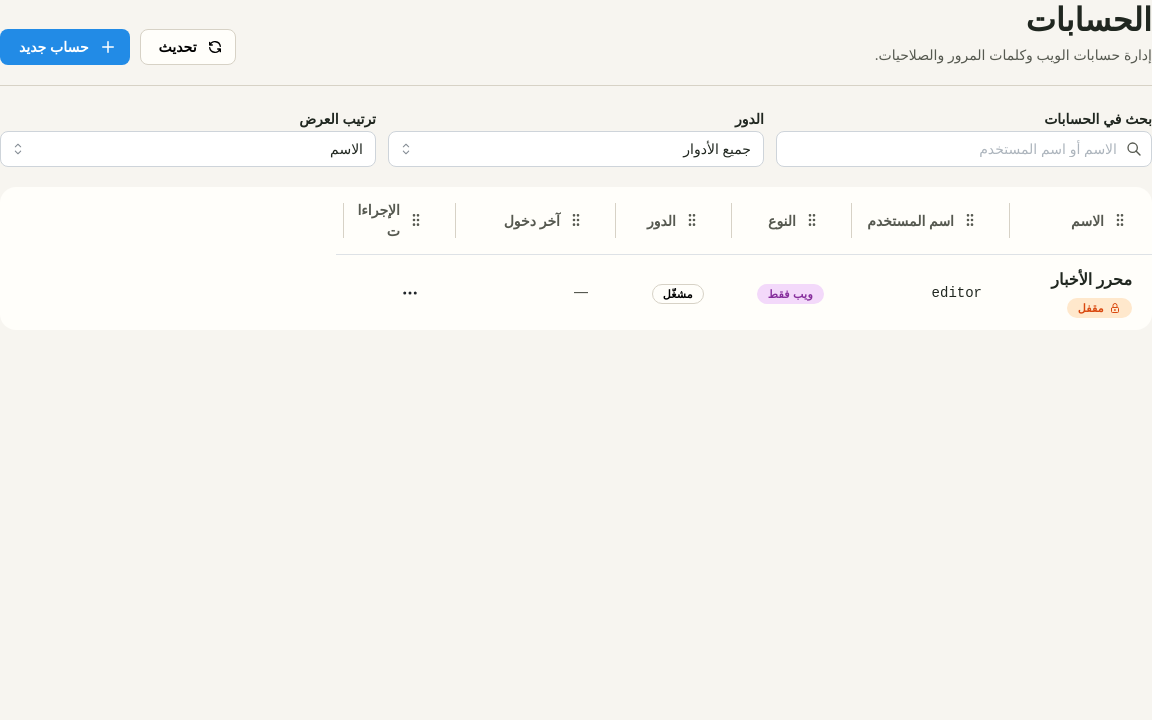
Test: refreshes a locked account after its password is reset
Expected: the text "محرر الأخبار" is shown, [1051,267,1132,292]
Expected: the text "مقفل" is shown, [1078,299,1104,317]
Click the button named "إجراءات محرر الأخبار" at point(410, 292), box [392,274,428,310]
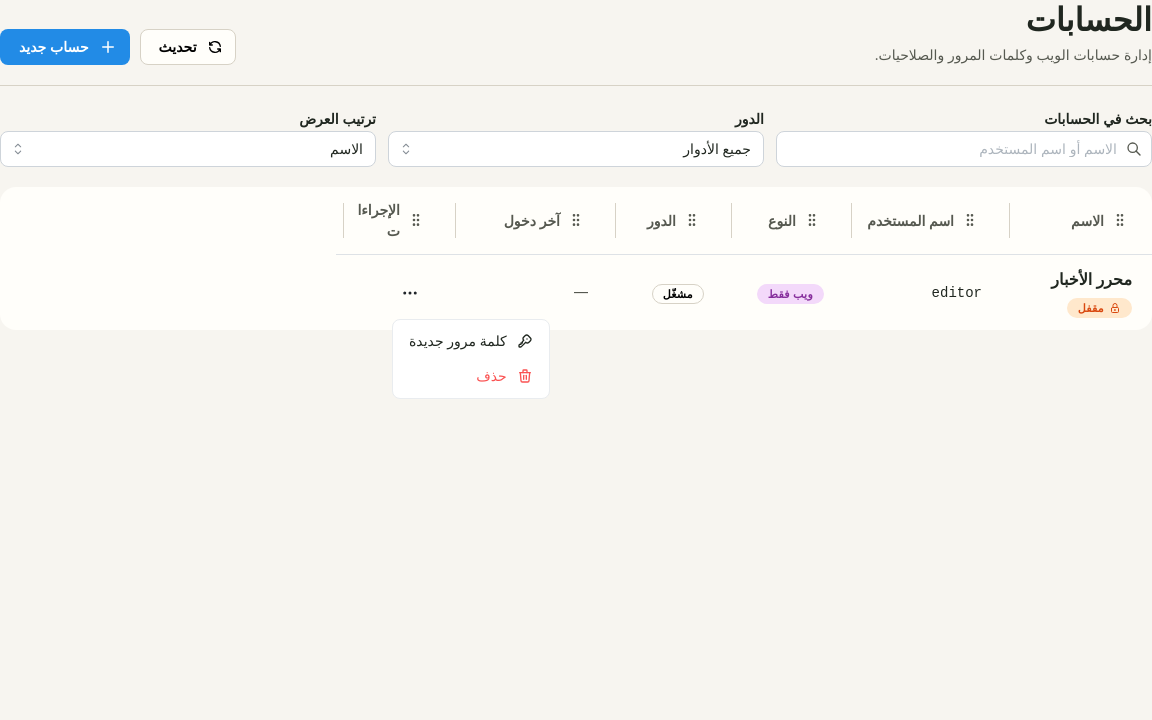
Click the menu item "كلمة مرور جديدة" at point(471, 341), box [397,324,545,358]
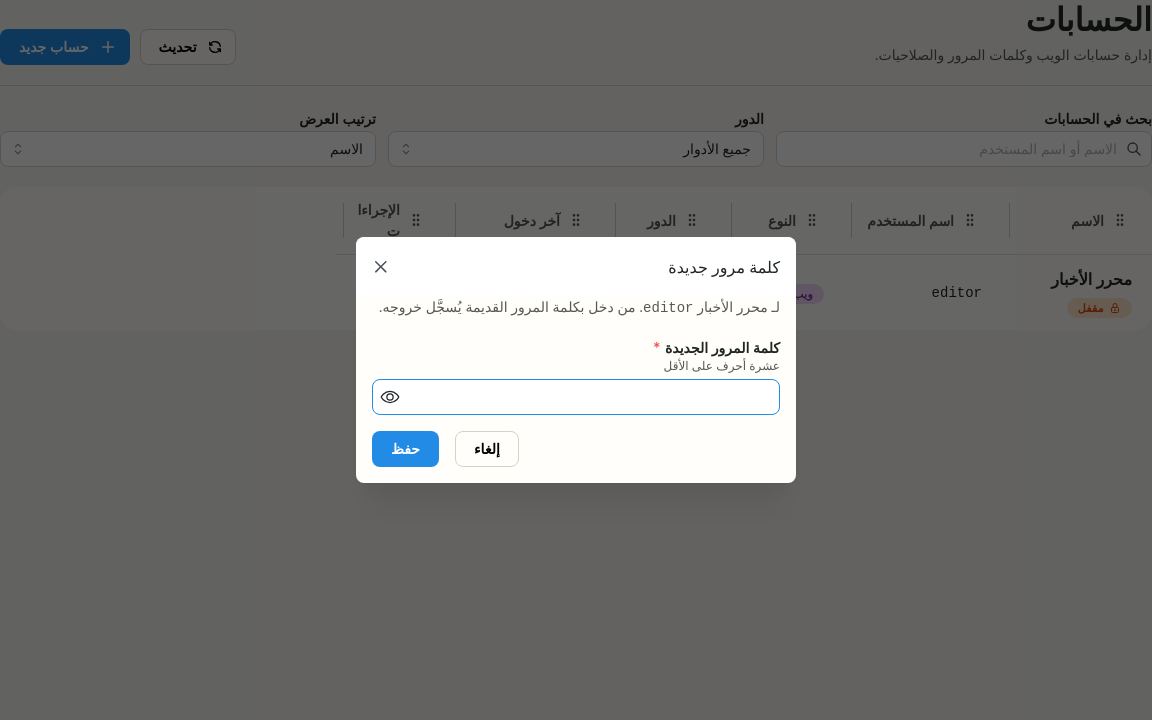
Type "long-password" into the password field labelled "كلمة المرور الجديدة *" at point(576, 397), box [373,380,779,414]
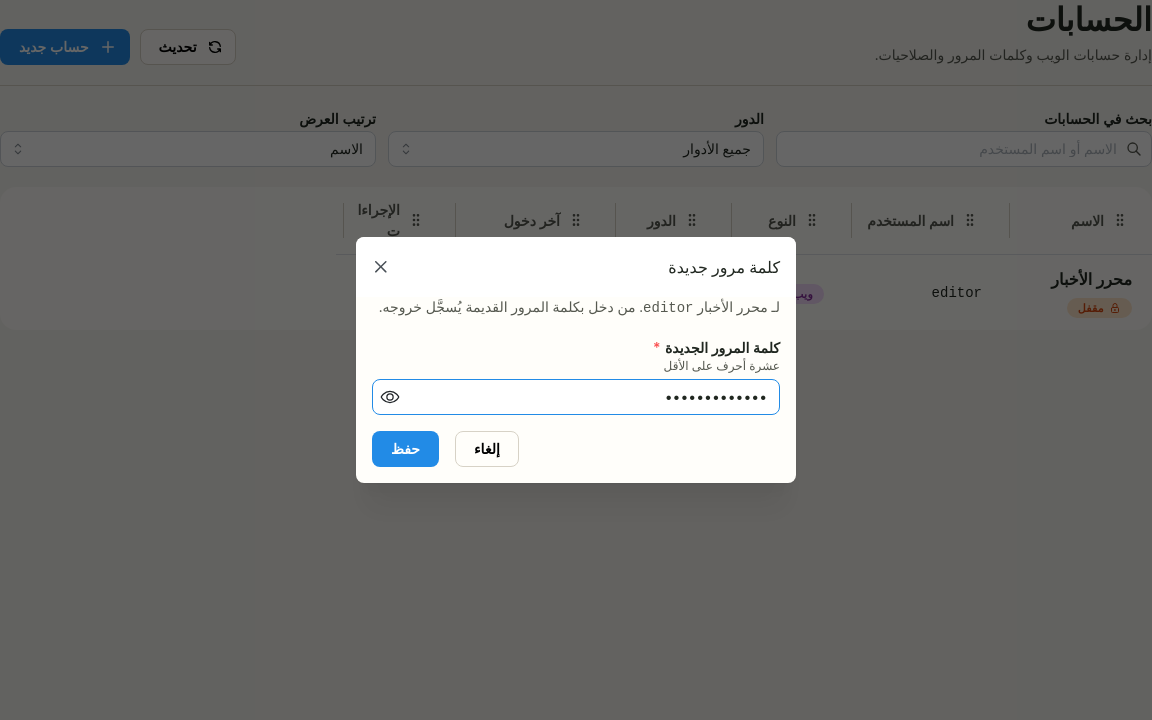
Click the button "حفظ" at point(406, 449), box [372,431,439,467]
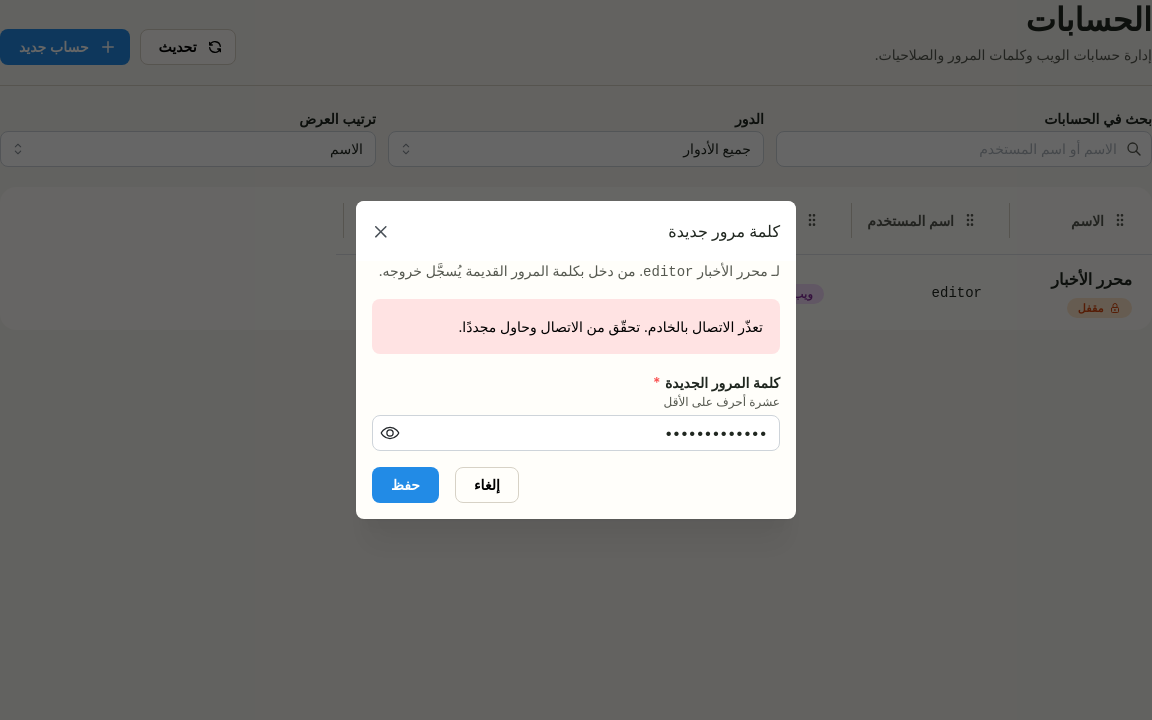
Expected: the text "مقفل" is shown, [1078,299,1104,317]
Expected: the message shows "تعذّر الاتصال بالخادم", [459,318,763,335]
Click the button "حفظ" at point(406, 485), box [372,467,439,503]
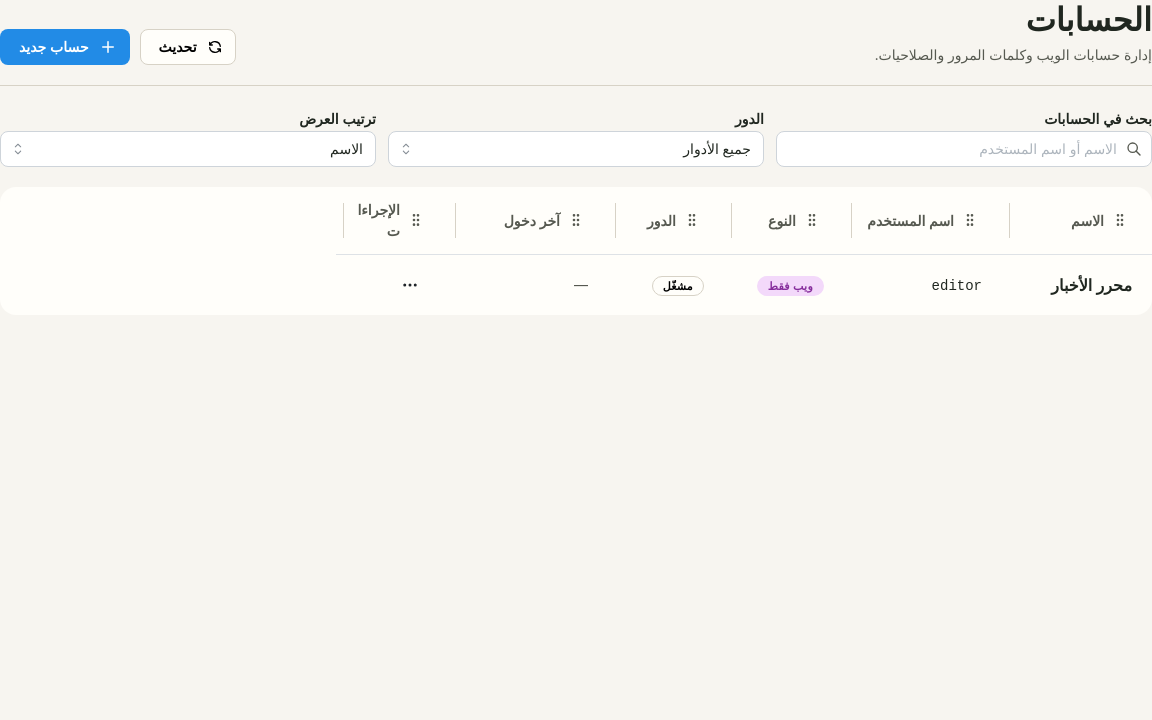
Expected: the text "مقفل" is gone
